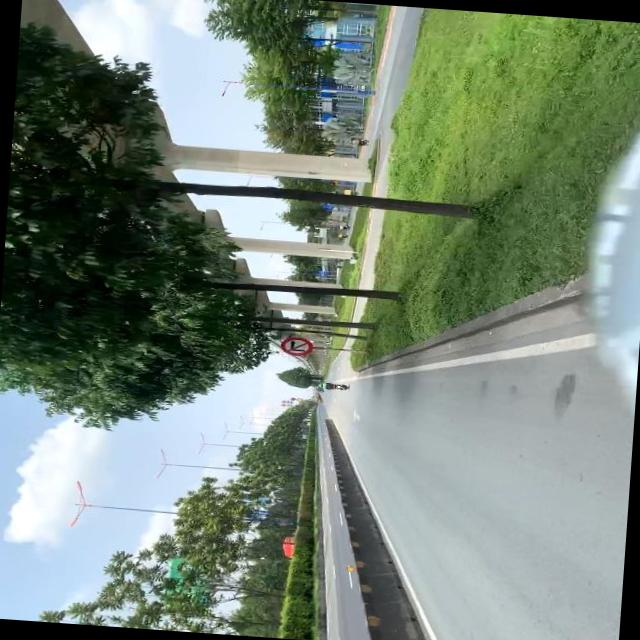P-123b: (280, 333, 312, 356)
